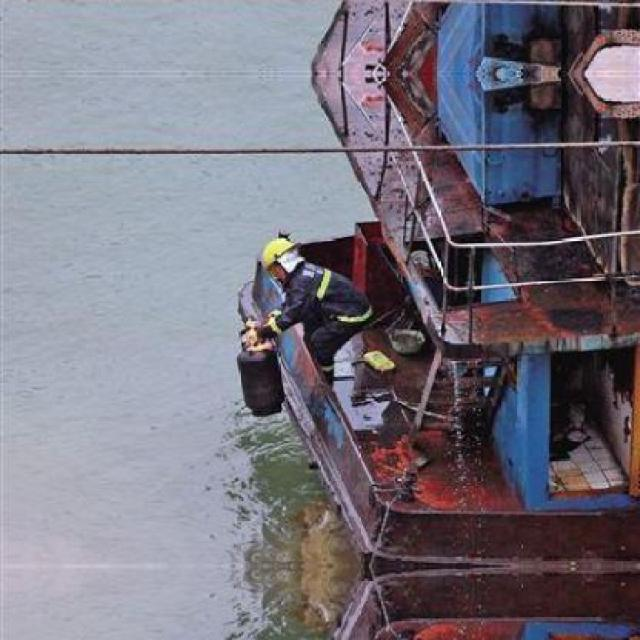helmet: (262, 230, 298, 281)
